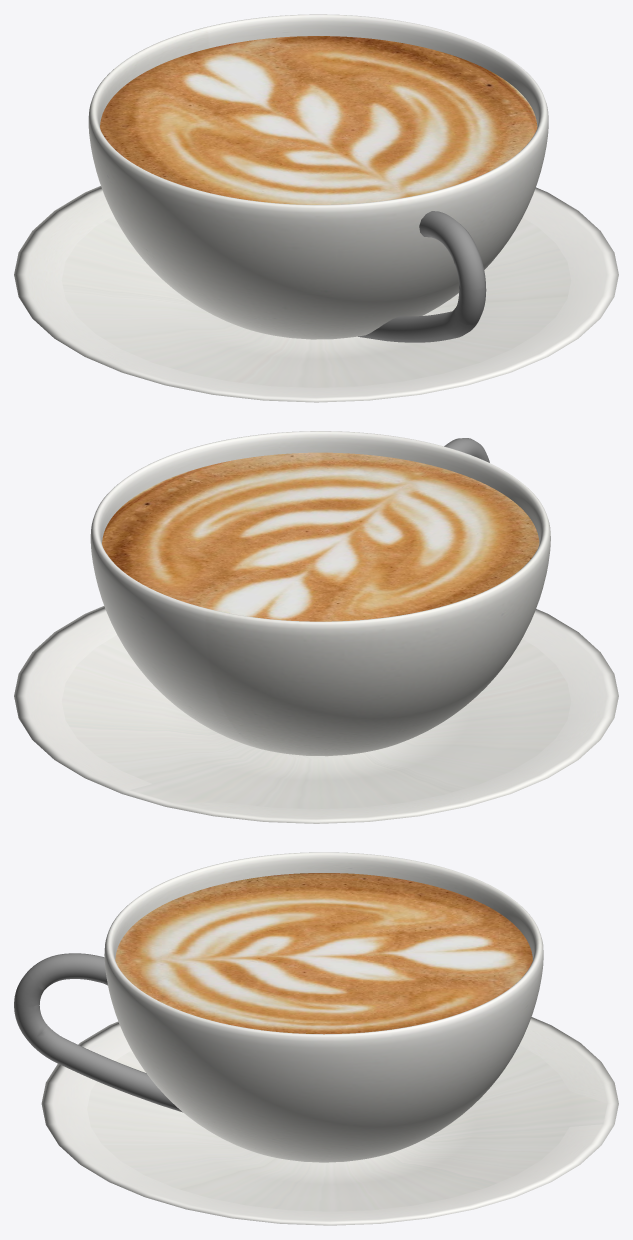
File: Coffe.fbx
3 renders of one model, top to bottom at view 1: azimuth 30°, elevation 25°; view 2: azimuth 150°, elevation 25°; view 3: azimuth 270°, elevation 25°, orthographic. The views are drawn at different scales.
Parts seen in each view (by area): view 1: Sphere001, Cylinder001, Object001, Line001; view 2: Cylinder001, Sphere001, Object001, Line001; view 3: Sphere001, Cylinder001, Object001, Line001.
Boxes of the visible parts, left/top/right/bottom form: Sphere001: left=88, top=14, right=548, bottom=339; Cylinder001: left=14, top=186, right=618, bottom=402; Object001: left=100, top=36, right=537, bottom=204; Line001: left=358, top=211, right=486, bottom=342; Cylinder001: left=14, top=606, right=618, bottom=823; Sphere001: left=90, top=431, right=550, bottom=756; Object001: left=102, top=452, right=539, bottom=621; Line001: left=444, top=438, right=489, bottom=462; Sphere001: left=104, top=852, right=543, bottom=1162; Cylinder001: left=41, top=1017, right=618, bottom=1225; Object001: left=115, top=873, right=532, bottom=1034; Line001: left=14, top=953, right=182, bottom=1112.
Size of the model in its own units: 105 by 37.99 by 110.
4 materials, 3 textured.
